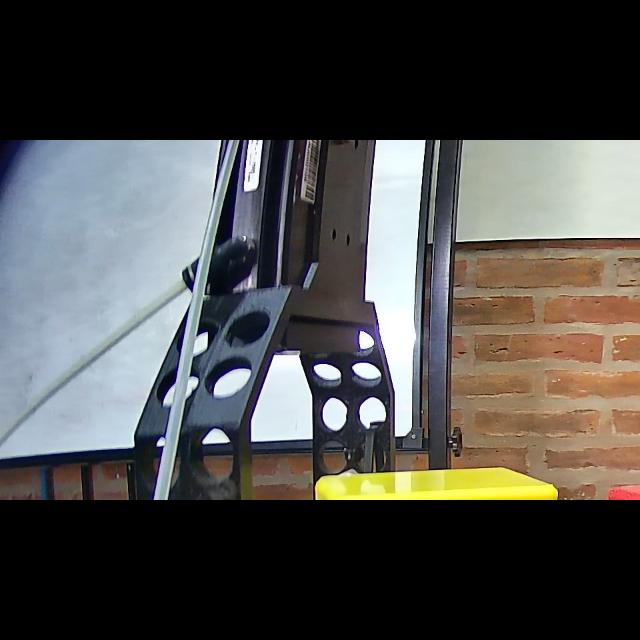redBox: (600, 472, 640, 500)
yellowBox: (310, 466, 566, 500)
